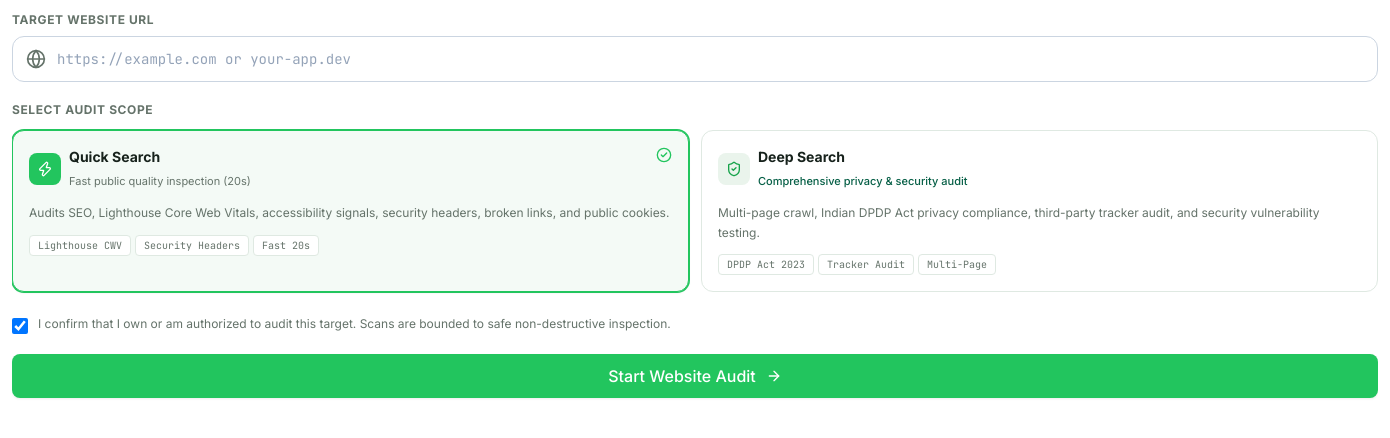
Scenario: SiteUrlForm Component › displays validation error when submitting an empty URL
Click the button "Start Website Audit": {"x": 695, "y": 376} x1=12 y1=354 x2=1378 y2=398
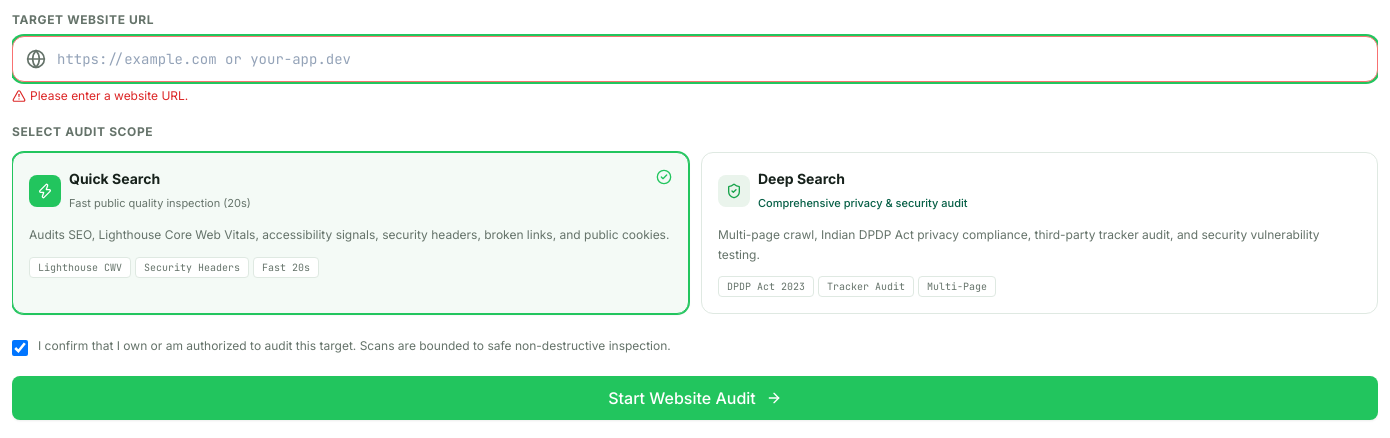
Expected: the text "Please enter a website URL." is shown, x1=30 y1=88 x2=188 y2=104
